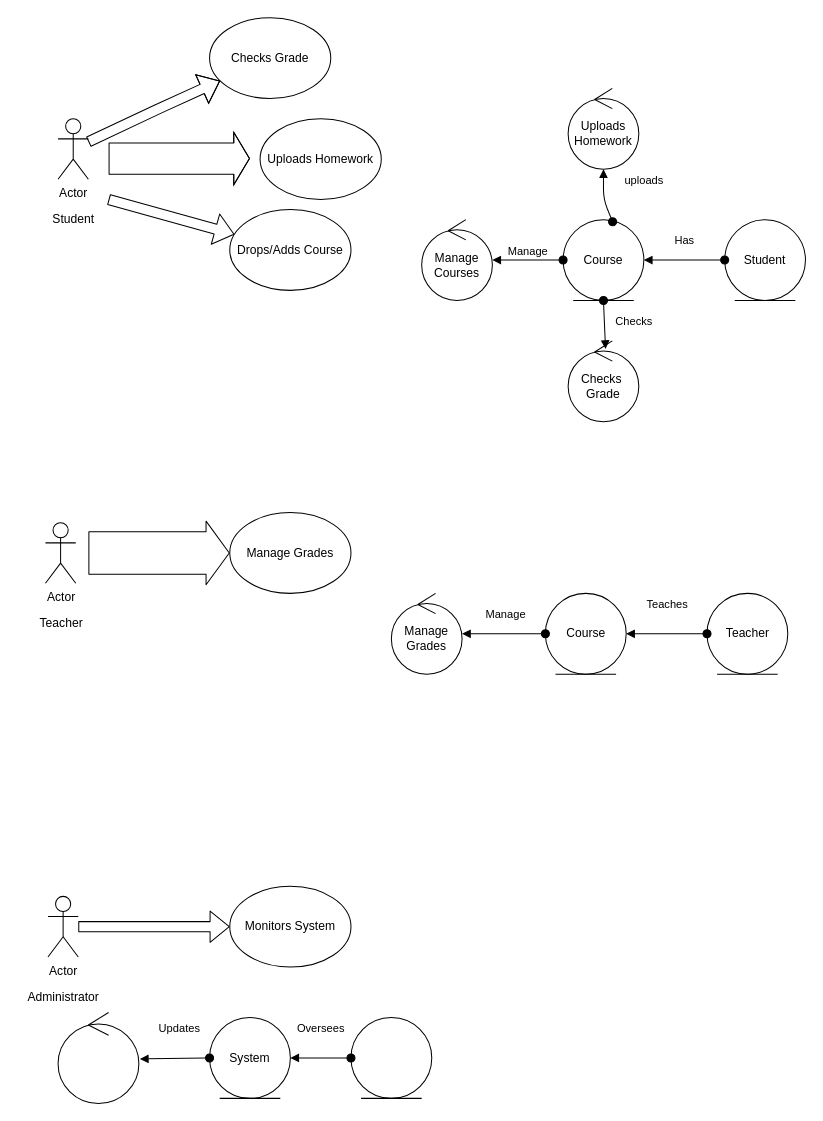
The diagram is 823 pixels wide and 1121 high, and some of its shapes have lost their labels. The shapes that lost their labels are listed below. From the top down, each one's centre as x and y in pixels, then its label:
[98,1057]: Maintains System Consistency
[391,1057]: Admin
